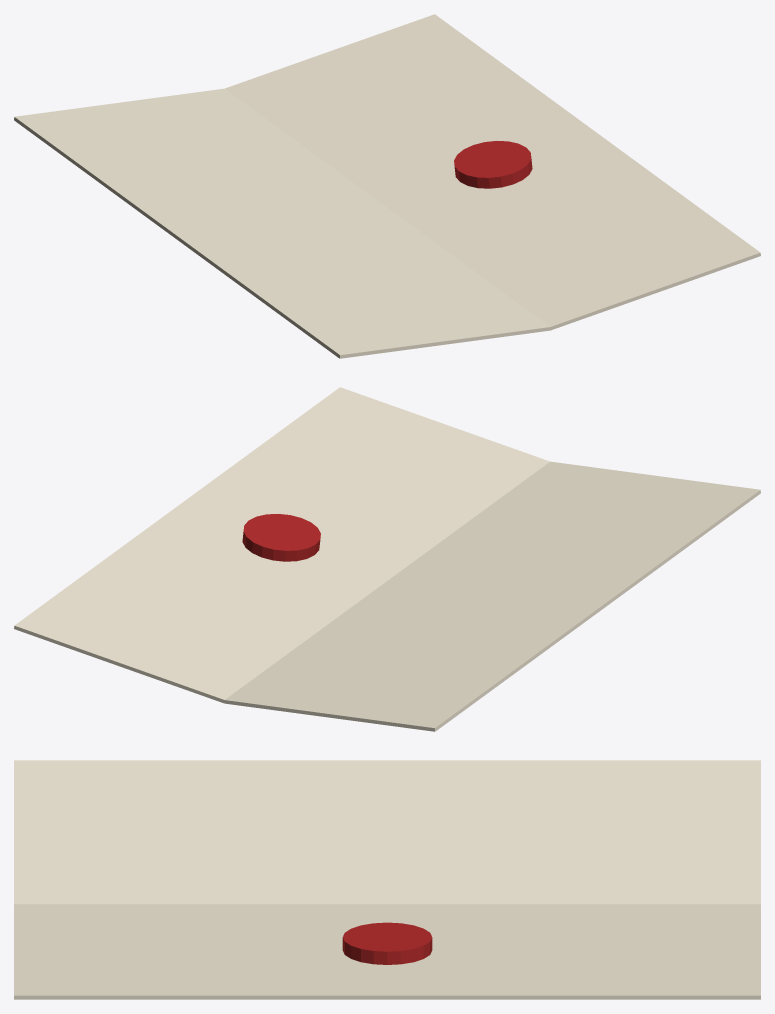
The model's file is Prop_Letter.fbx.
3 renders of one model, top to bottom at view 1: azimuth 30°, elevation 25°; view 2: azimuth 150°, elevation 25°; view 3: azimuth 270°, elevation 25°, orthographic. The views are drawn at different scales.
Parts seen in each view (by area): view 1: Letter_Paper, Letter_Seal; view 2: Letter_Paper, Letter_Seal; view 3: Letter_Paper, Letter_Seal.
Part boxes in pixels (x1,y1,x2,y2): Letter_Paper: (14,14,760,358); Letter_Seal: (454,141,532,188); Letter_Paper: (14,387,760,731); Letter_Seal: (242,514,320,561); Letter_Paper: (14,760,760,999); Letter_Seal: (342,922,432,964).
Bounding box in the file's own units: 0.1493 × 0.0102 × 0.2.
